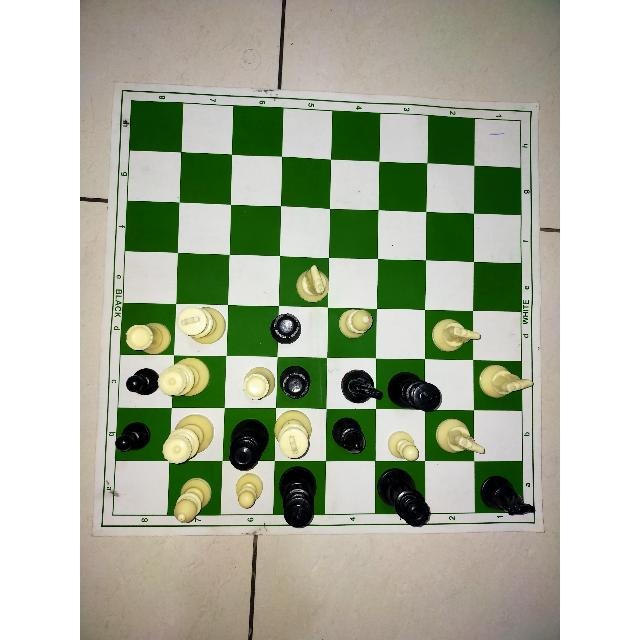black-bishop: (328, 414, 367, 462)
black-king: (277, 452, 323, 533), (386, 369, 444, 409)
black-knight: (479, 463, 542, 525), (338, 363, 386, 405)
black-pawn: (113, 417, 157, 450), (125, 361, 161, 396)
black-queen: (371, 462, 432, 527), (227, 414, 264, 472)
black-rook: (267, 308, 306, 347), (273, 362, 310, 398)
white-bishop: (174, 476, 216, 528), (333, 305, 374, 345)
white-king: (174, 300, 229, 352)
white-knight: (471, 357, 531, 408), (425, 315, 485, 360), (431, 413, 485, 463), (290, 260, 340, 306)
white-pawn: (382, 422, 424, 463), (231, 466, 267, 504)
white-queen: (165, 412, 211, 464), (159, 353, 211, 398)
white-rook: (119, 317, 173, 356), (237, 361, 277, 407)
